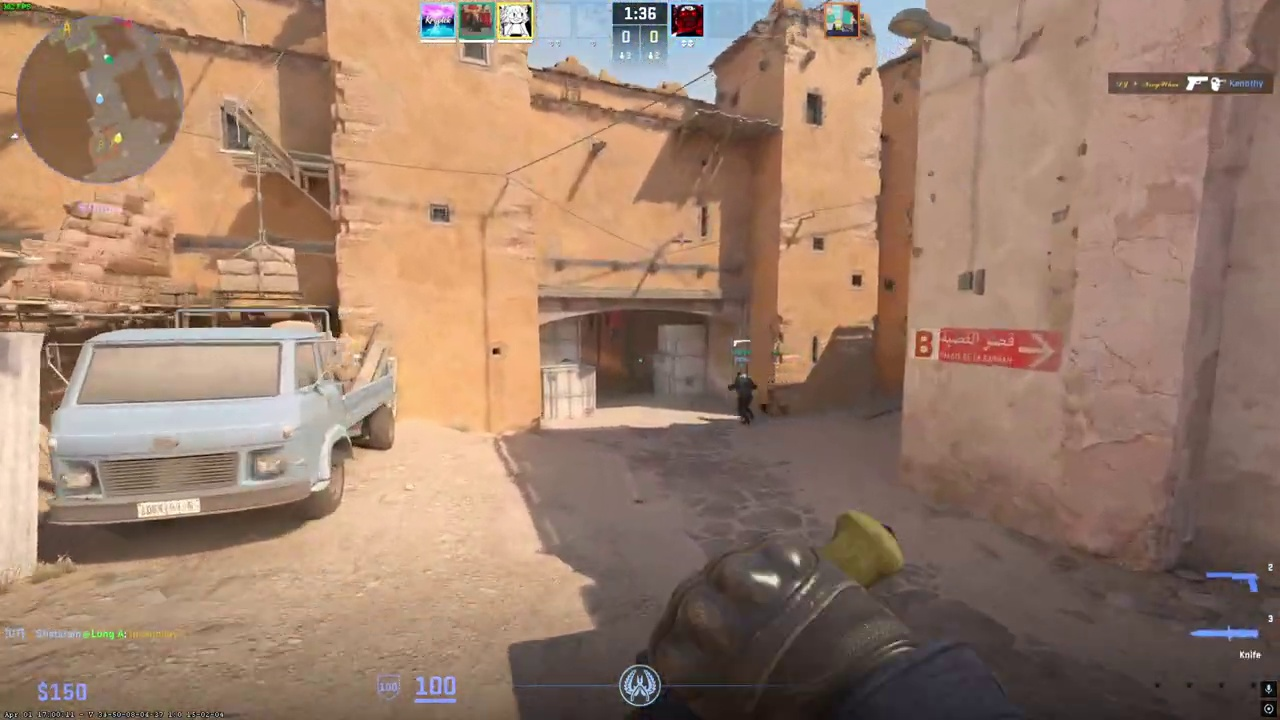CT: (732, 371, 756, 425)
